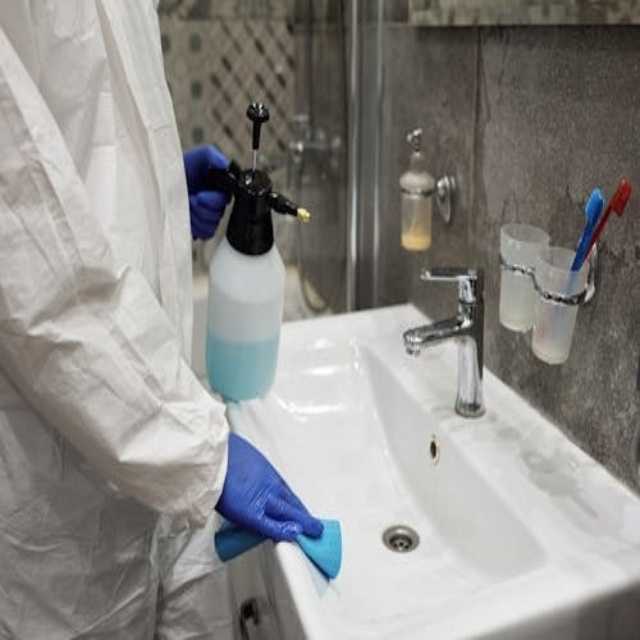Guantes: (214, 427, 339, 577), (183, 144, 234, 241)
